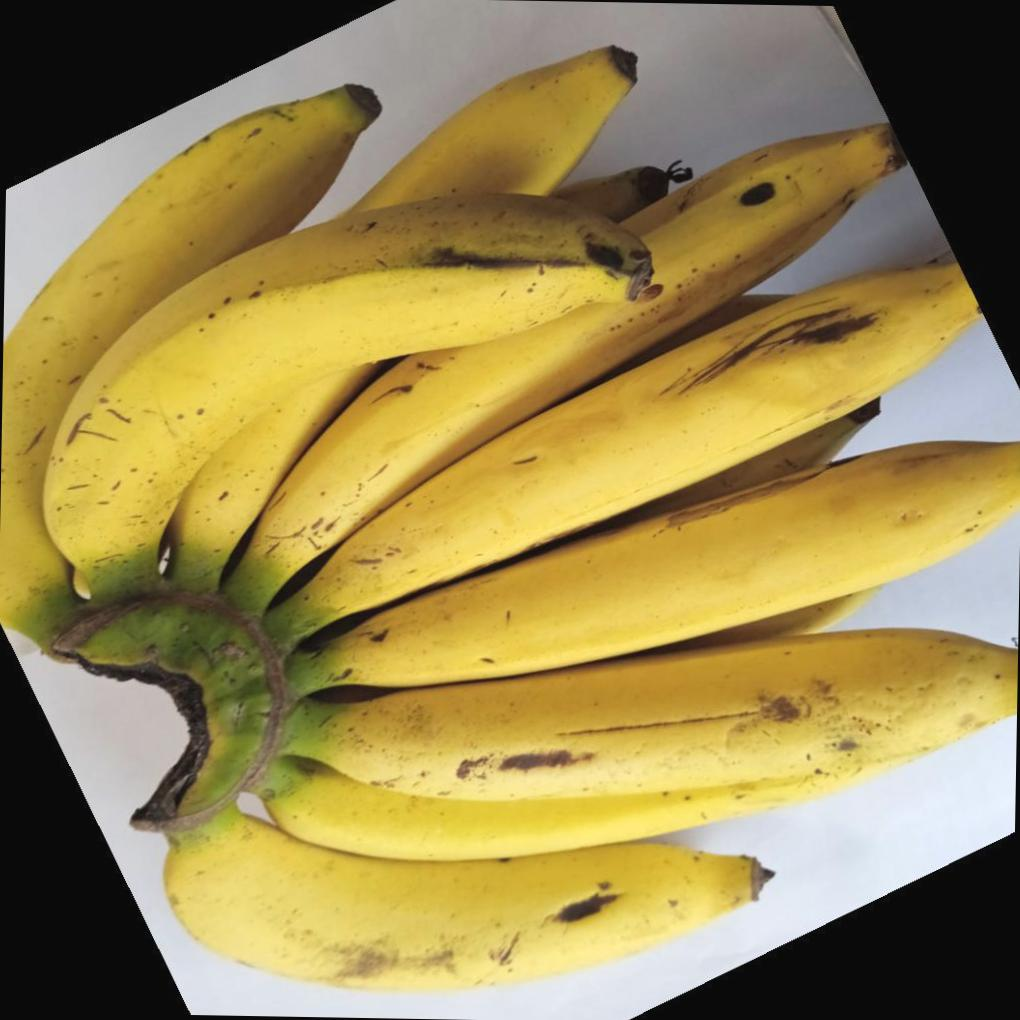Banana Ripe: (0, 24, 1020, 1020)
